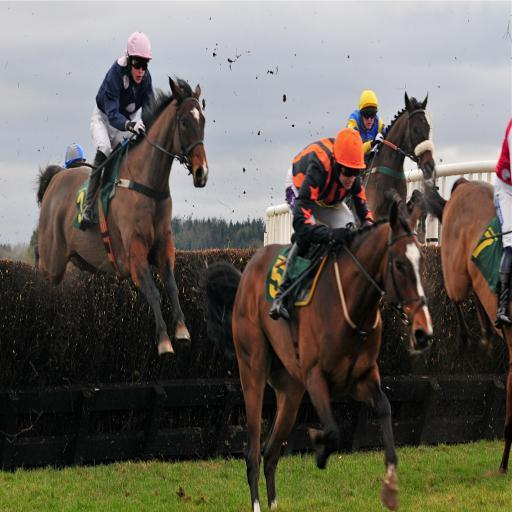horse: (204, 200, 436, 512), (34, 72, 208, 358), (419, 177, 512, 476), (342, 90, 436, 232)
